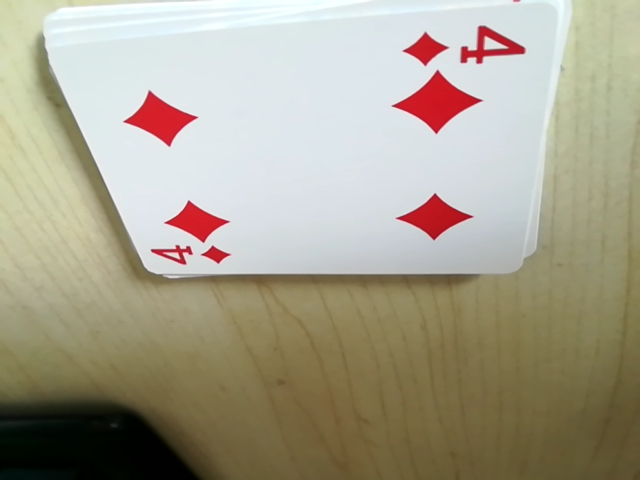fk 4: (402, 16, 534, 71), (144, 235, 235, 274)
